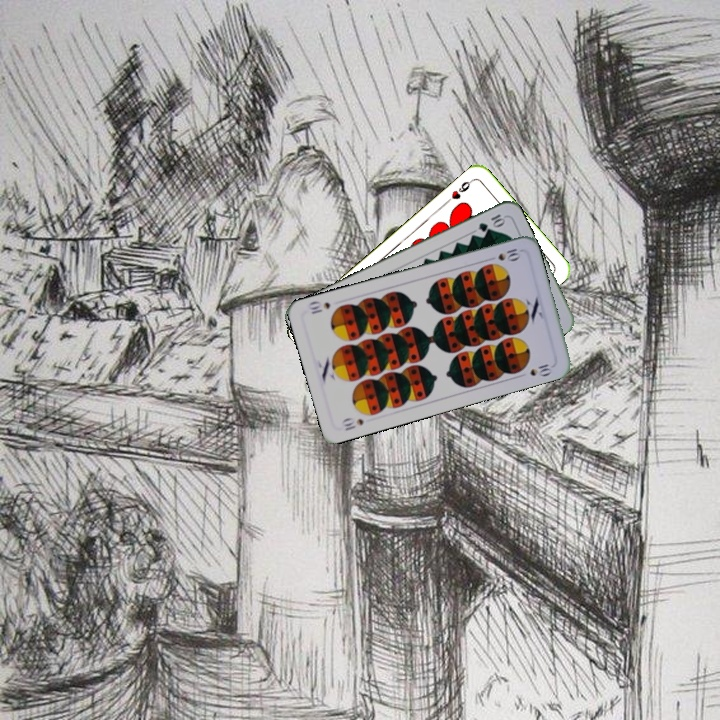G10: (474, 210, 508, 234)
H9: (442, 175, 476, 206)
S10: (484, 244, 523, 263), (338, 413, 366, 433)
